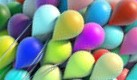Balloon: (90, 52, 123, 80), (14, 37, 43, 68), (54, 10, 84, 39), (64, 50, 93, 80), (75, 23, 105, 50), (32, 4, 57, 35), (109, 1, 137, 26), (45, 38, 71, 63), (8, 12, 31, 40), (85, 1, 110, 25)
